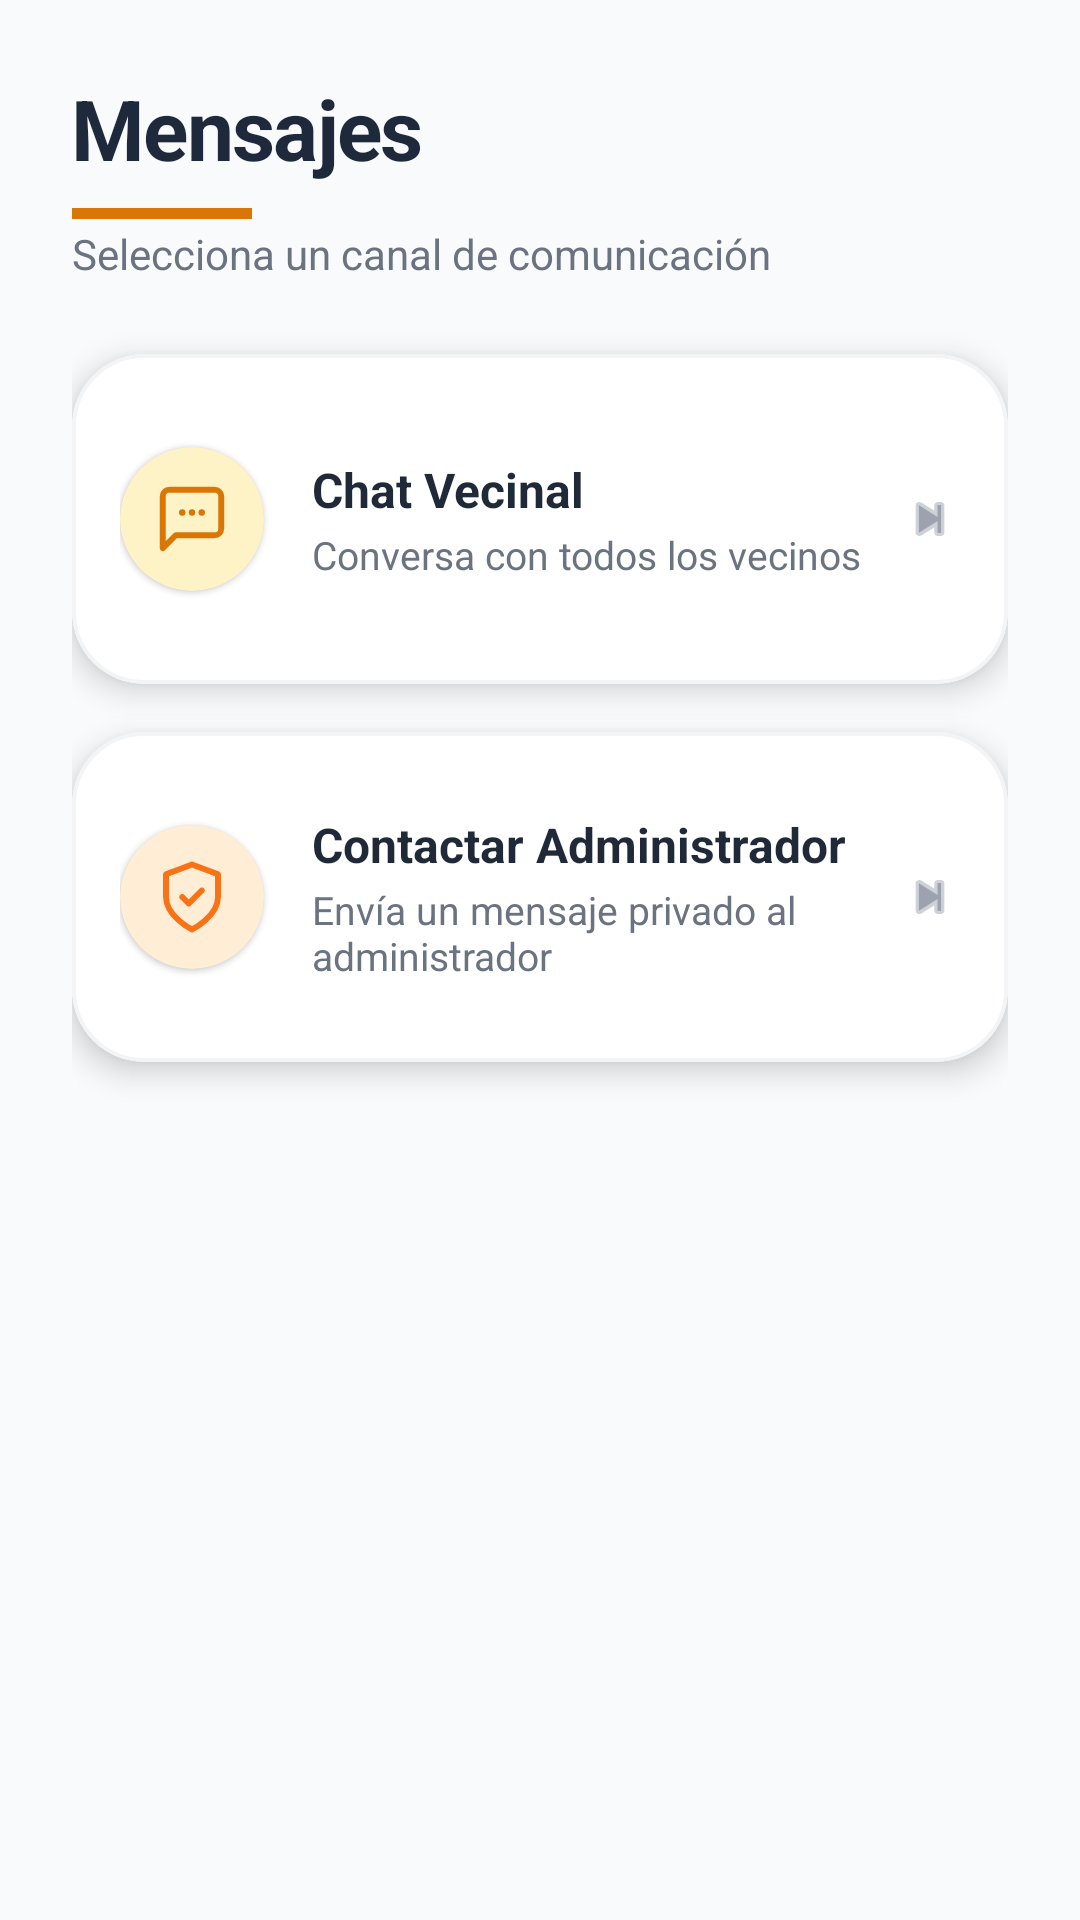

Point at icon controls on the screen. Image size 1080w x 1920h, points as (x,y).
aprobaciones: (192,897)
next: (930,519), (930,897)
